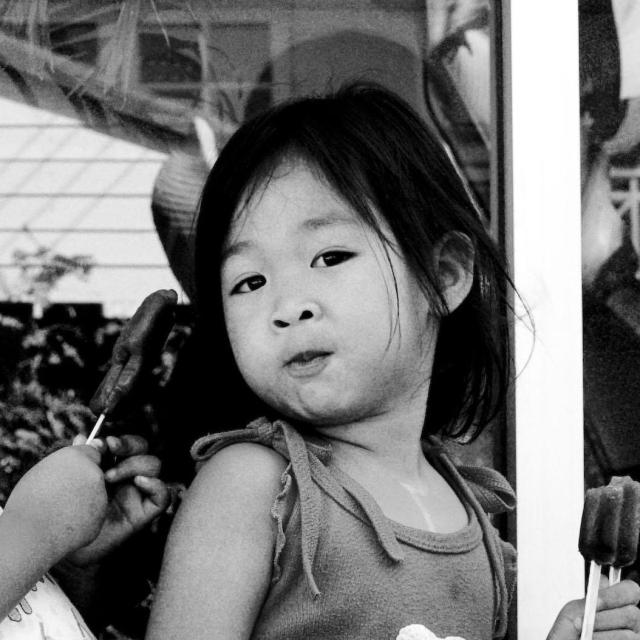no-glass: (234, 248, 354, 301)
